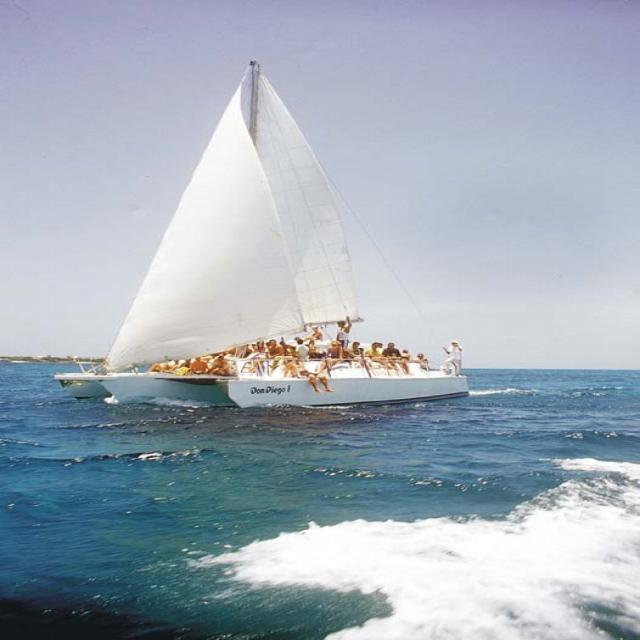Ship: (58, 63, 483, 404)
